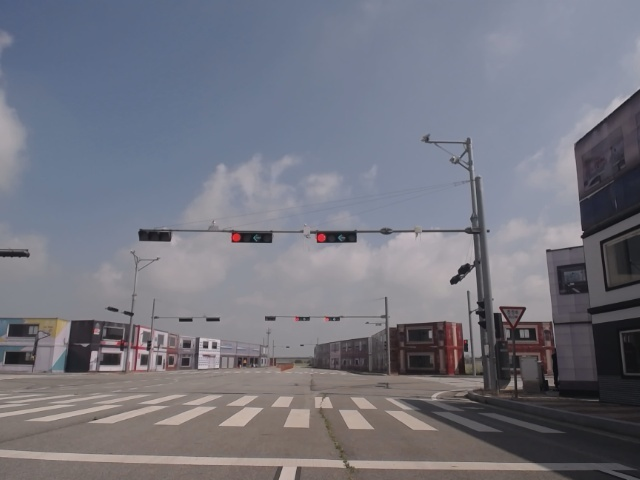left_green_4: (231, 231, 273, 243), (316, 231, 357, 243)
